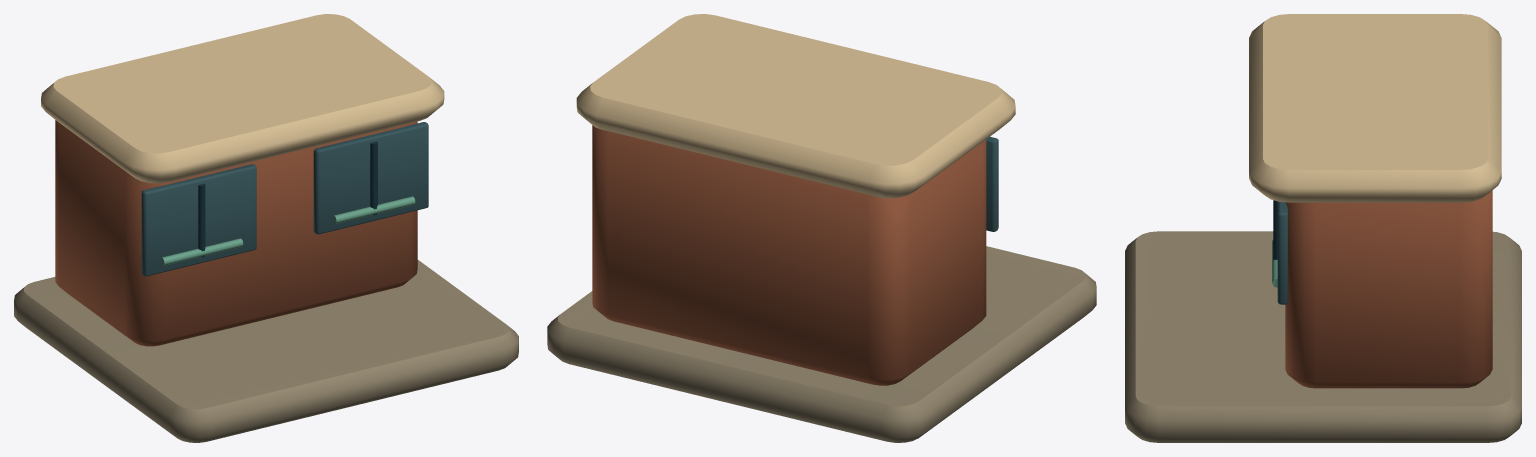
File: annex_workshop_3.glb
3 renders of one model, left to right at view 1: azimuth 30°, elevation 25°; view 2: azimuth 150°, elevation 25°; view 3: azimuth 270°, elevation 25°, orthographic. The views are drawn at different scales.
Parts seen in each view (by area): view 1: Annex_workshop_3; view 2: Annex_workshop_3; view 3: Annex_workshop_3.
Boxes of the visible parts, x1,y1,x2,y2 form: Annex_workshop_3: [14, 14, 518, 442]; Annex_workshop_3: [547, 14, 1096, 442]; Annex_workshop_3: [1125, 14, 1521, 442].
Bounding box in the file's own units: 1.93 × 1.29 × 1.76.
